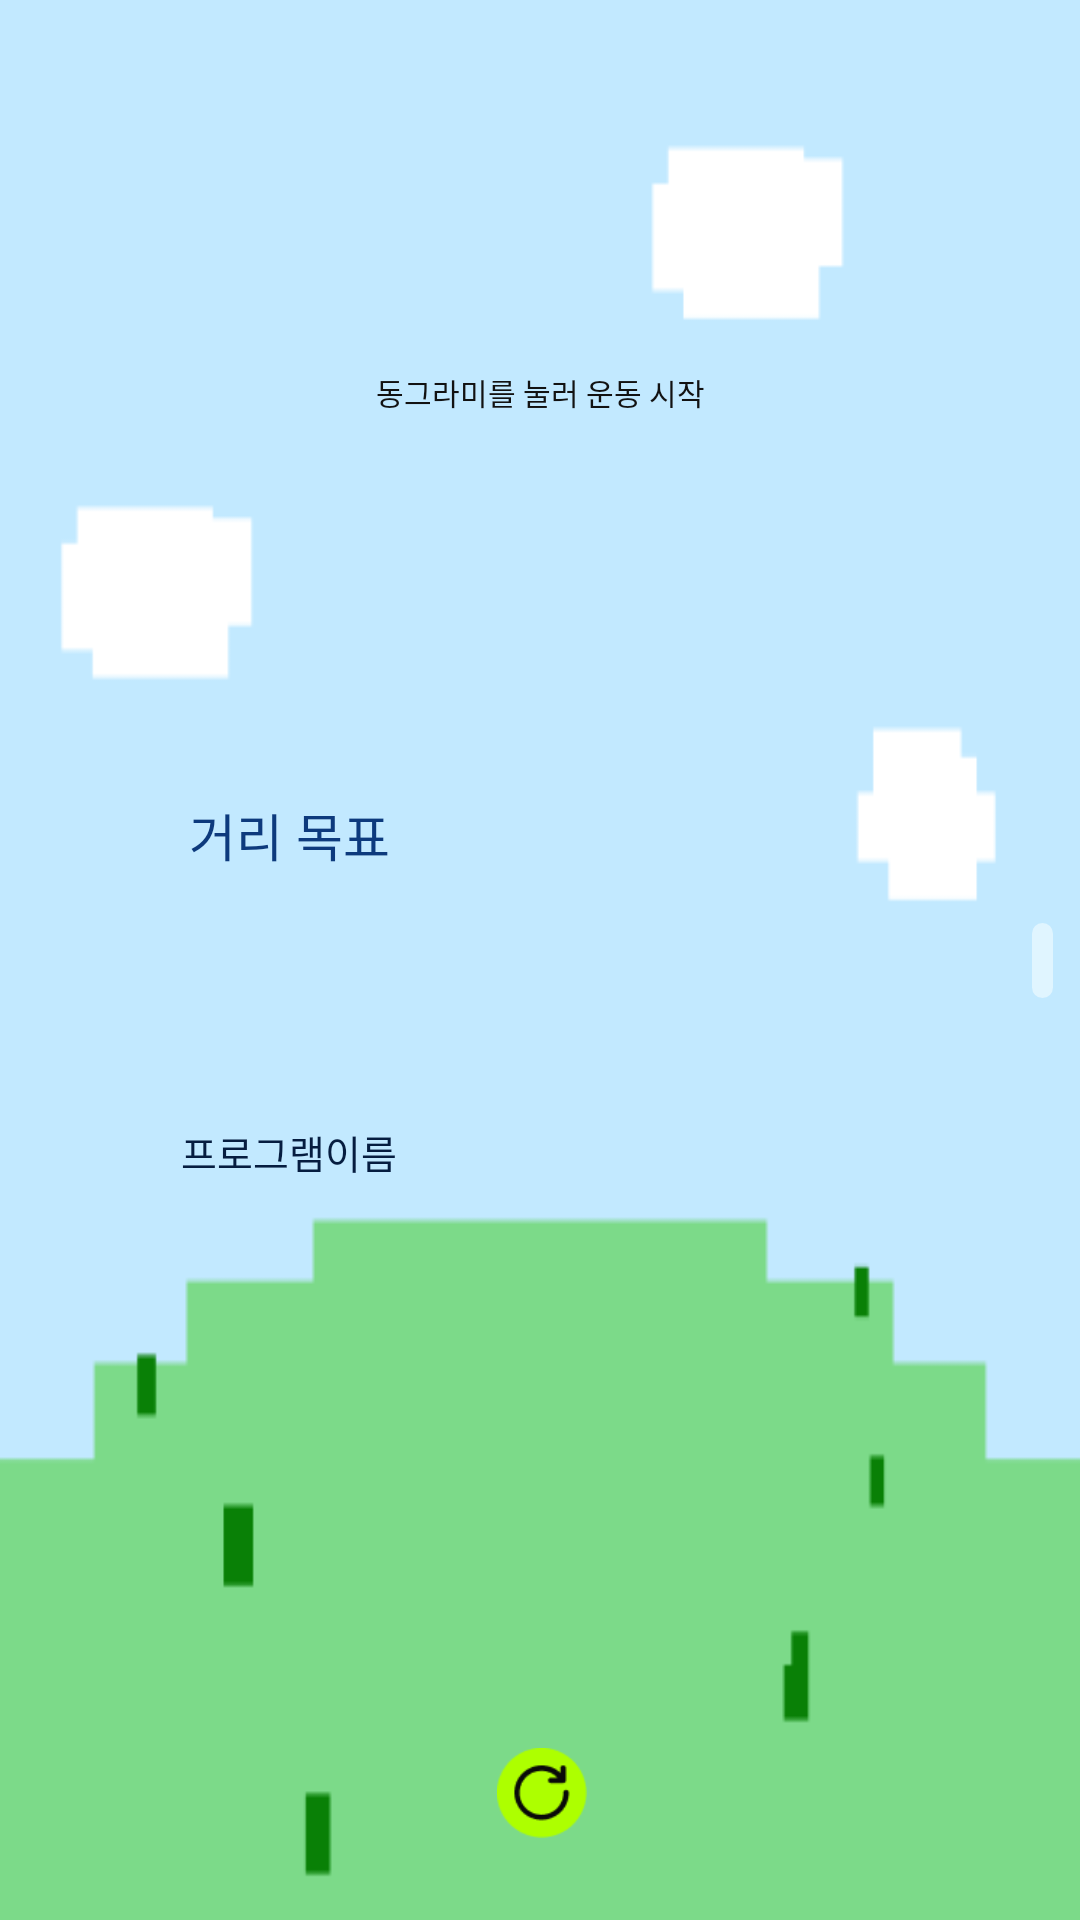

Point at icon controls on the screen. Image size 1080×1920, points as [x,y].
rebutton: [542,1793]
